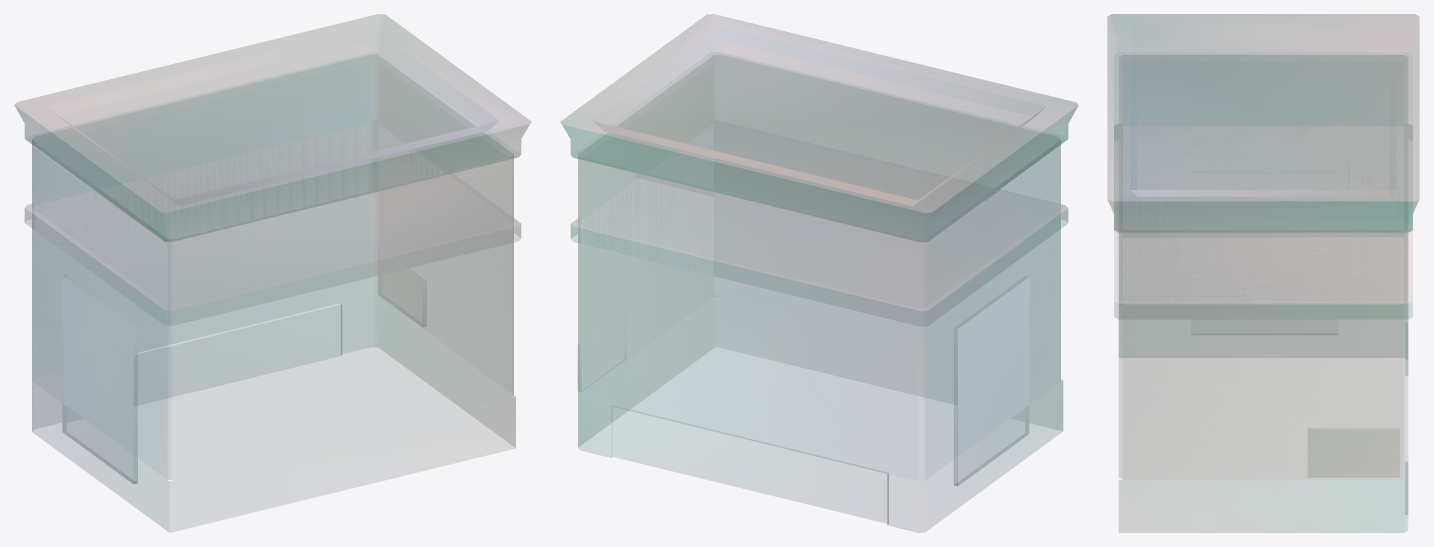
File: CEN_5E37.preview.glb
3 views of the same model, side by side, from view 1: azimuth 30°, elevation 25°; view 2: azimuth 150°, elevation 25°; view 3: azimuth 270°, elevation 25° (orthographic). The views are drawn at different scales.
Parts seen in each view (by area): view 1: obj_1630, obj_3d0, obj_be0, obj_e90, obj_1ca0, obj_18d0, obj_1f10, obj_23c0, obj_120, obj_650, obj_1b50; view 2: obj_1630, obj_3d0, obj_be0, obj_e90, obj_1ca0, obj_18d0, obj_120, obj_650, obj_1f10, obj_23c0, obj_1b50; view 3: obj_1630, obj_3d0, obj_be0, obj_1ca0, obj_e90, obj_18d0, obj_2190, obj_23c0, obj_650.
Boxes of the visible parts, x1,y1,x2,y2 form: obj_1630: (14,14,530,325); obj_3d0: (32,208,513,479); obj_be0: (15,14,530,532); obj_e90: (25,27,520,310); obj_1ca0: (61,42,479,199); obj_18d0: (32,140,513,307); obj_1f10: (62,275,137,483); obj_23c0: (63,277,132,482); obj_120: (138,305,341,404); obj_650: (34,211,167,377); obj_1b50: (34,149,92,205); obj_1630: (561,14,1078,326); obj_3d0: (578,209,1060,480); obj_be0: (561,14,1077,532); obj_e90: (571,27,1067,310); obj_1ca0: (612,42,1031,200); obj_18d0: (578,140,1060,307); obj_120: (613,406,887,523); obj_650: (580,227,713,393); obj_1f10: (954,276,1028,485); obj_23c0: (958,278,1028,485); obj_1b50: (580,164,638,220); obj_1630: (1107,14,1419,319); obj_3d0: (1119,299,1407,479); obj_be0: (1107,14,1419,532); obj_1ca0: (1137,41,1389,189); obj_e90: (1114,26,1412,303); obj_18d0: (1119,232,1407,300); obj_2190: (1308,429,1399,476); obj_23c0: (1308,431,1399,476); obj_650: (1123,301,1403,304).
Size of the model in its own units: 58.43 by 49.09 by 41.15.
